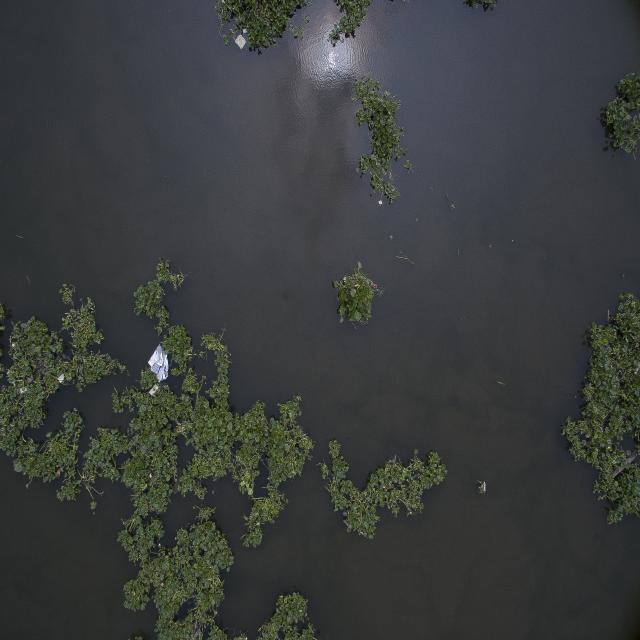debris: (147, 346, 172, 381), (147, 382, 164, 398), (340, 273, 354, 287), (10, 338, 19, 354), (56, 372, 67, 384), (145, 473, 157, 481), (18, 386, 28, 395), (376, 198, 385, 207), (158, 540, 164, 548)
plastic: (234, 30, 253, 54), (479, 478, 489, 497), (210, 487, 222, 498)
